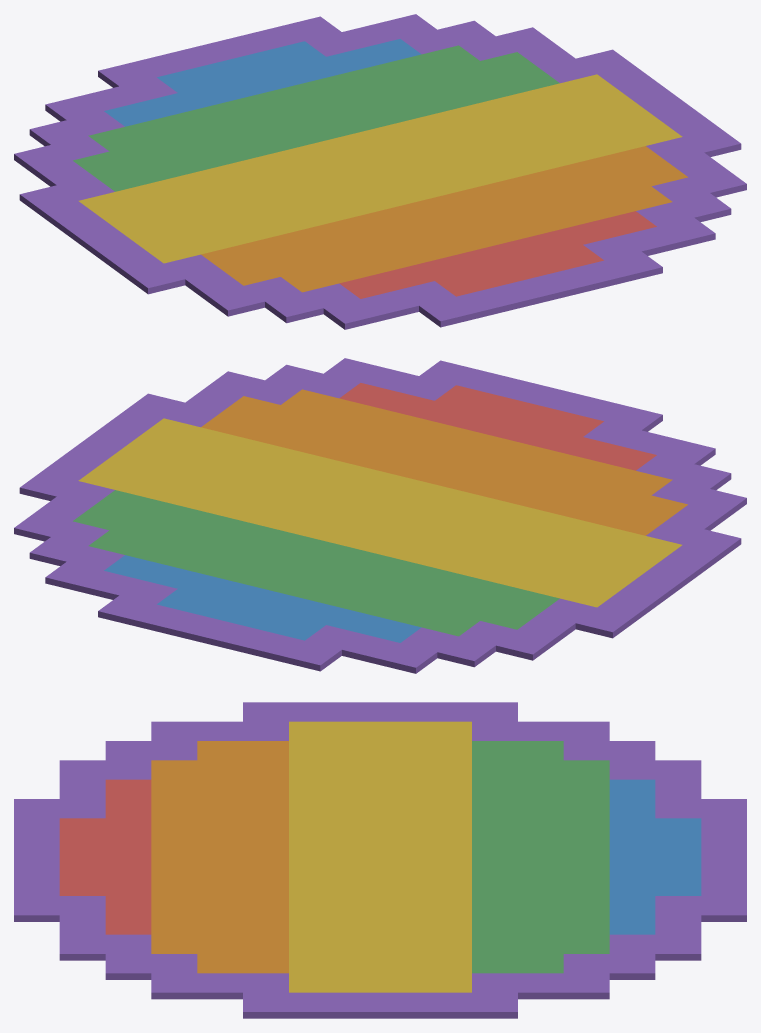
The model's file is ncb-rug-rainbow.glb.
3 renders of one model, top to bottom at view 1: azimuth 30°, elevation 25°; view 2: azimuth 150°, elevation 25°; view 3: azimuth 270°, elevation 25°, orthographic. The views are drawn at different scales.
Visible parts, largest first — view 1: box-prop; view 2: box-prop; view 3: box-prop.
Part boxes in pixels (box(x1,y1,x2,y2)): box-prop: box(14, 14, 746, 329); box-prop: box(14, 358, 746, 673); box-prop: box(14, 702, 746, 1018).
Size of the model in its own units: 3.04 by 0.03 by 3.04.
